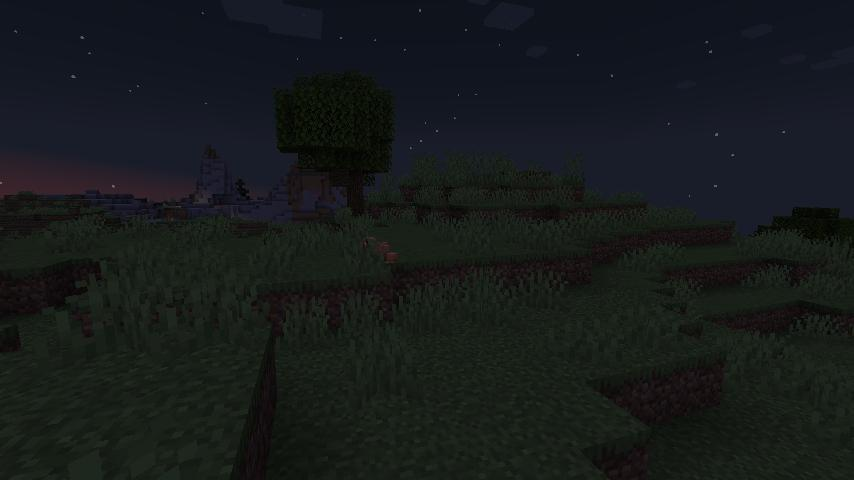frog: (355, 234, 402, 271)
